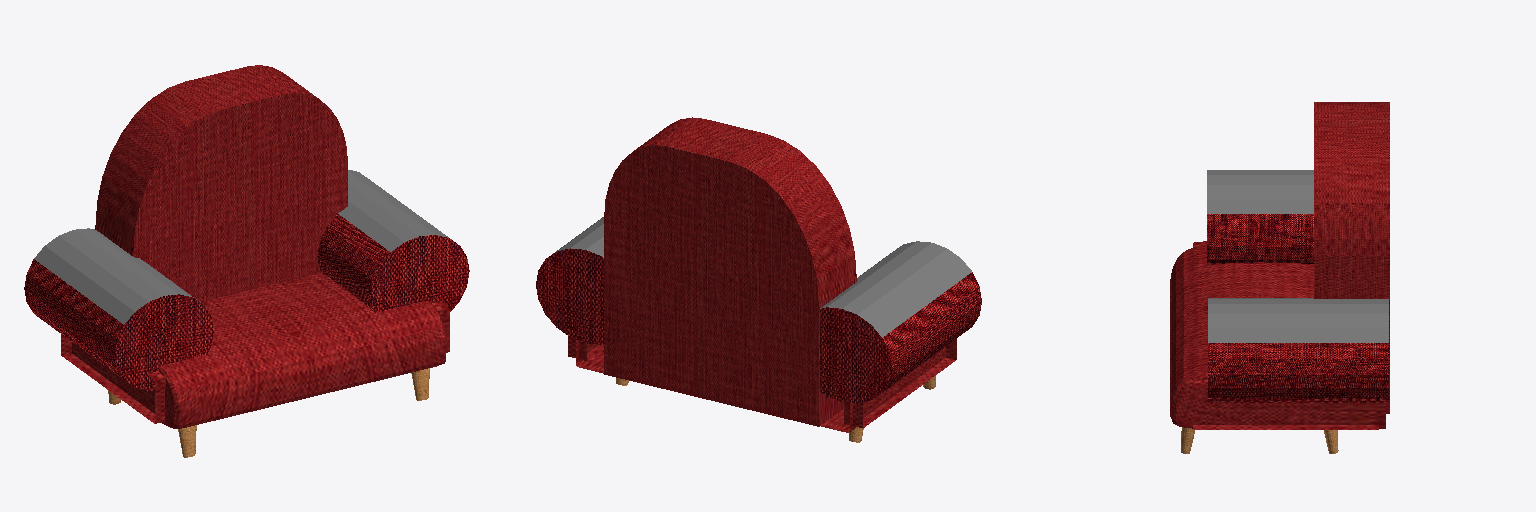
3 renders of one model, left to right at view 1: azimuth 30°, elevation 25°; view 2: azimuth 150°, elevation 25°; view 3: azimuth 270°, elevation 25°, orthographic.
Visible parts, largest first — view 1: pCube1, polySurface2 sofa_1_baris:sofa_1_baris polySurface6 polySurface4, pasted__pCylinder1 group1, pasted__pCylinder1 group; view 2: pCube1, pasted__pCylinder1 group1, pasted__pCylinder1 group, polySurface2 sofa_1_baris:sofa_1_baris polySurface6 polySurface4; view 3: pasted__pCylinder1 group, polySurface2 sofa_1_baris:sofa_1_baris polySurface6 polySurface4, pCube1, pasted__pCylinder1 group1.
Boxes of the visible parts, <box> form: pCube1: <box>95,65,347,301</box>; polySurface2 sofa_1_baris:sofa_1_baris polySurface6 polySurface4: <box>61,273,449,457</box>; pasted__pCylinder1 group1: <box>24,228,213,390</box>; pasted__pCylinder1 group: <box>317,170,469,312</box>; pCube1: <box>604,117,856,426</box>; pasted__pCylinder1 group1: <box>820,241,981,403</box>; pasted__pCylinder1 group: <box>536,217,603,344</box>; polySurface2 sofa_1_baris:sofa_1_baris polySurface6 polySurface4: <box>568,336,956,432</box>; pasted__pCylinder1 group: <box>1208,298,1388,402</box>; polySurface2 sofa_1_baris:sofa_1_baris polySurface6 polySurface4: <box>1170,241,1385,429</box>; pCube1: <box>1314,102,1389,413</box>; pasted__pCylinder1 group1: <box>1207,170,1313,264</box>.
Size of the model in its own units: 3.76 by 2.8 by 2.01.
Materials: 5 (3 with a texture image).